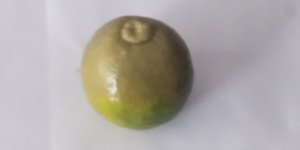BAD: (80, 16, 193, 132)
